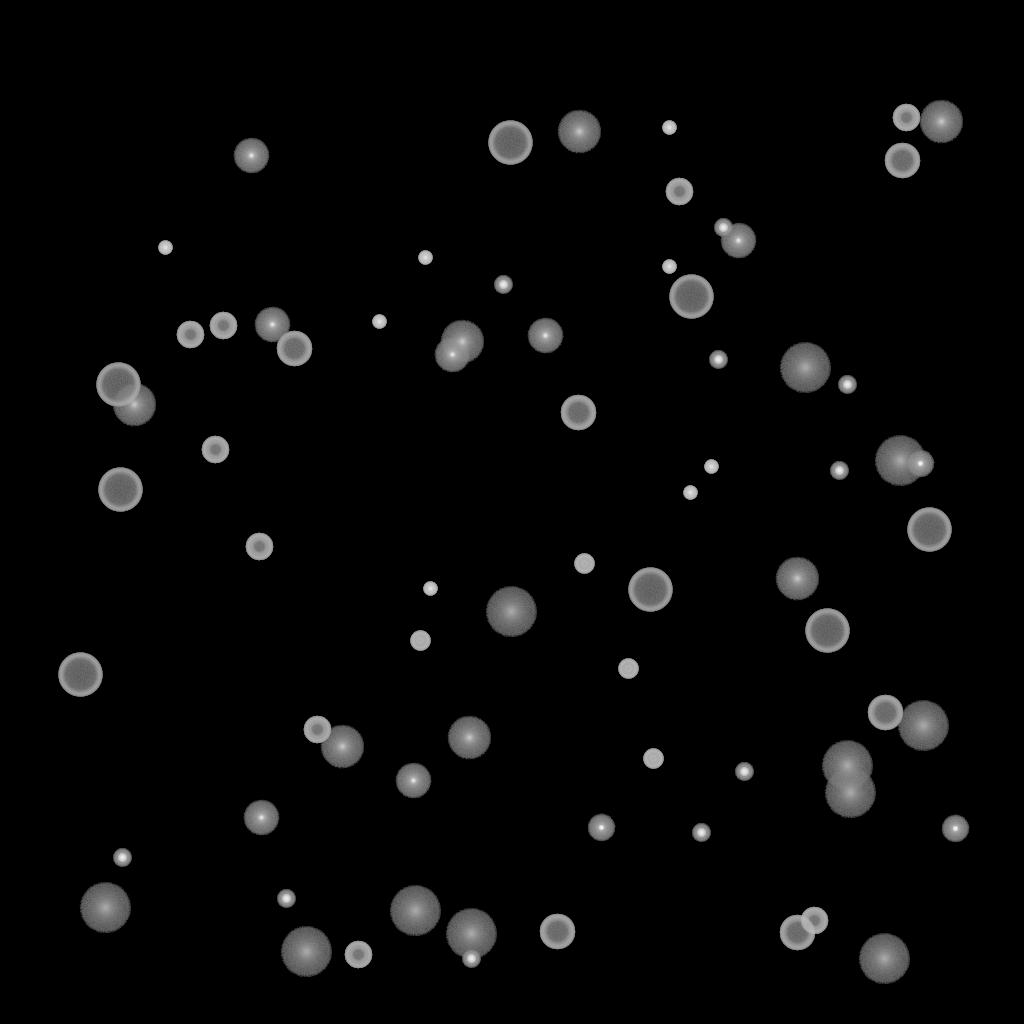depth:-10: (941, 815, 969, 843), (906, 450, 934, 478), (587, 814, 615, 842)
depth:-20: (494, 276, 512, 294), (830, 462, 848, 480), (113, 849, 131, 867), (692, 824, 710, 842), (838, 376, 856, 394), (277, 890, 295, 908), (735, 763, 753, 781), (709, 351, 727, 369), (462, 950, 480, 968), (714, 219, 732, 237)
depth:-30: (372, 315, 386, 329), (662, 260, 676, 274), (418, 251, 432, 265), (158, 241, 172, 255), (662, 121, 676, 135), (423, 582, 437, 596), (683, 486, 697, 500), (704, 460, 718, 474)
depth:-40: (574, 554, 594, 574), (410, 631, 430, 651), (618, 659, 638, 679), (643, 749, 663, 769)
depth:-50: (201, 436, 229, 464), (665, 178, 693, 206), (892, 104, 920, 132), (209, 312, 237, 340), (176, 321, 204, 349), (800, 907, 828, 935), (245, 533, 273, 561), (303, 716, 331, 744), (344, 941, 372, 969)
depth:-60: (779, 915, 815, 951), (867, 695, 903, 731), (276, 331, 312, 367), (539, 914, 575, 950), (884, 143, 920, 179), (560, 395, 596, 431)
depth:-70: (805, 609, 849, 653), (669, 275, 713, 319), (907, 508, 951, 552), (628, 568, 672, 612), (96, 363, 140, 407), (98, 468, 142, 512), (488, 121, 532, 165), (58, 653, 102, 697)
depth:0: (254, 307, 290, 343), (527, 318, 563, 354), (434, 337, 470, 373), (395, 763, 431, 799), (720, 223, 756, 259), (233, 138, 269, 174), (243, 800, 279, 836)
depth:10: (775, 557, 819, 601), (447, 716, 491, 760), (557, 110, 601, 154), (320, 725, 364, 769), (112, 383, 156, 427), (919, 100, 963, 144), (440, 320, 484, 364)
depth:20: (389, 886, 441, 936), (874, 436, 926, 486), (779, 343, 831, 393), (821, 741, 873, 791), (79, 883, 131, 933), (485, 587, 537, 637), (445, 909, 497, 959), (897, 701, 949, 751), (280, 927, 332, 977), (858, 934, 910, 984), (824, 768, 876, 818)
